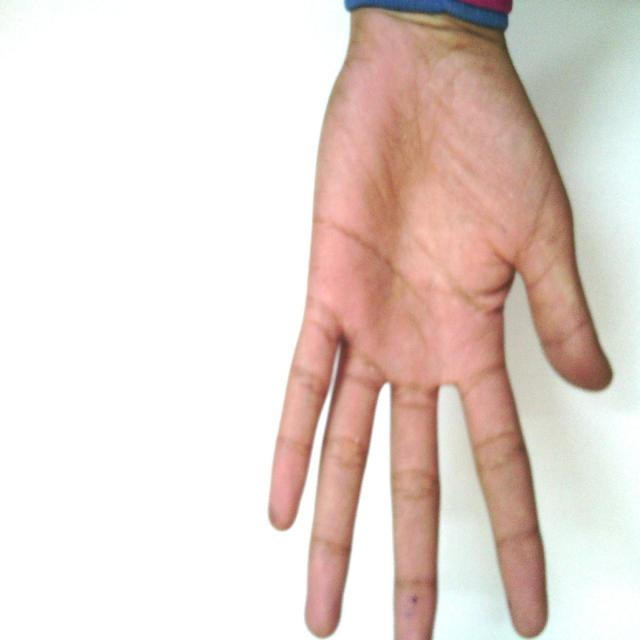others: (261, 0, 622, 640)
